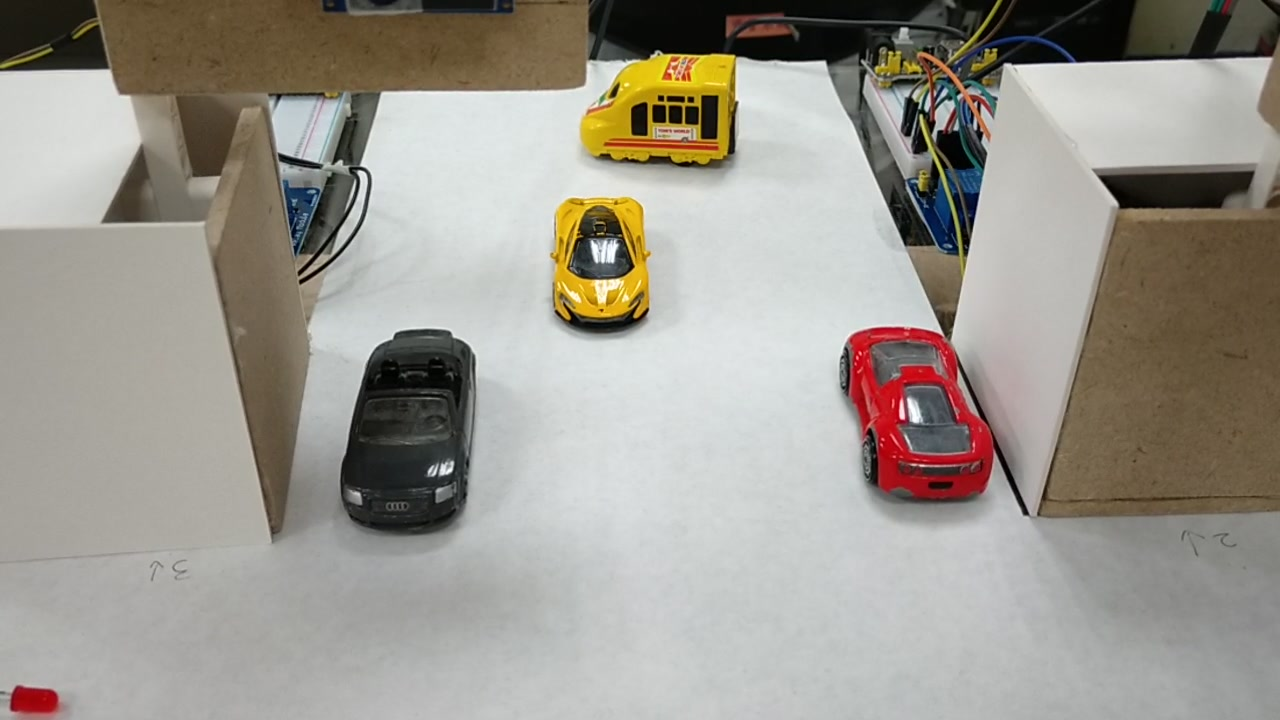car: (341, 328, 472, 528), (847, 331, 990, 500), (552, 191, 647, 325)
